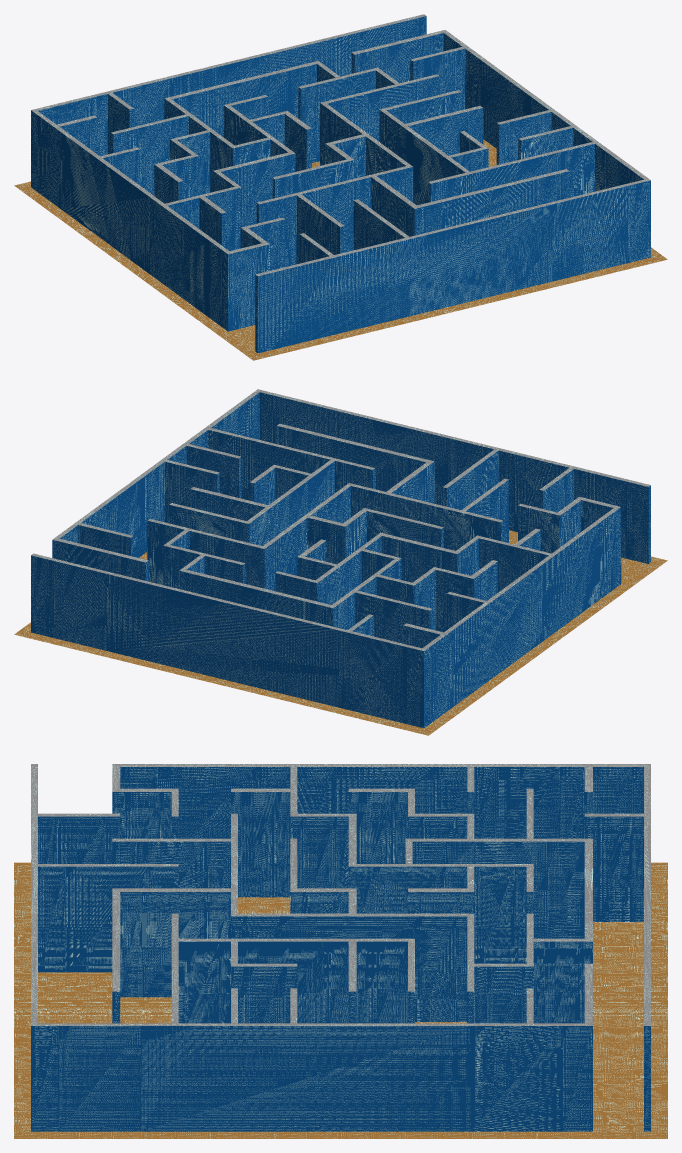
Rendered from maze.dae.
3 views of the same model, one above another, from view 1: azimuth 30°, elevation 25°; view 2: azimuth 150°, elevation 25°; view 3: azimuth 270°, elevation 25° (orthographic). The views are drawn at different scales.
Visible parts, largest first — view 1: instance_1 (×2), instance_3 (×2), instance_4; view 2: instance_1 (×2), instance_3 (×2), instance_4; view 3: instance_1 (×2), instance_4, instance_3 (×2).
Part boxes in pixels (x1,y1,x2,y2): instance_1 (×2): (31, 16, 650, 353); instance_3 (×2): (31, 14, 650, 275); instance_4: (14, 139, 667, 360); instance_1 (×2): (31, 392, 650, 728); instance_3 (×2): (31, 389, 650, 650); instance_4: (14, 530, 667, 735); instance_1 (×2): (31, 767, 650, 1131); instance_4: (14, 862, 667, 1138); instance_3 (×2): (31, 764, 650, 1025).
Size of the model in its own units: 422 by 422 by 75.2.
